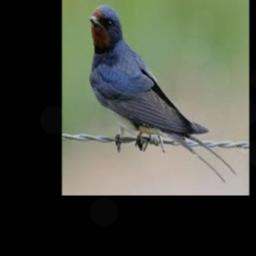Swallow: (89, 4, 236, 183)
